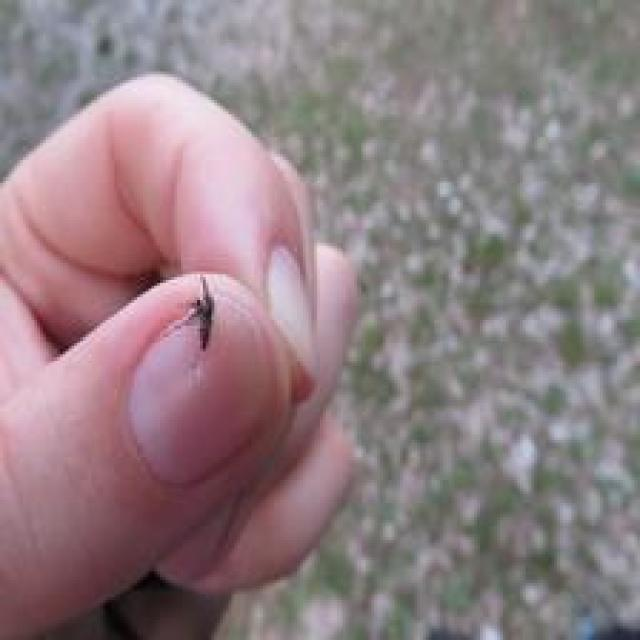Aedes albopictus: (184, 274, 216, 352)
